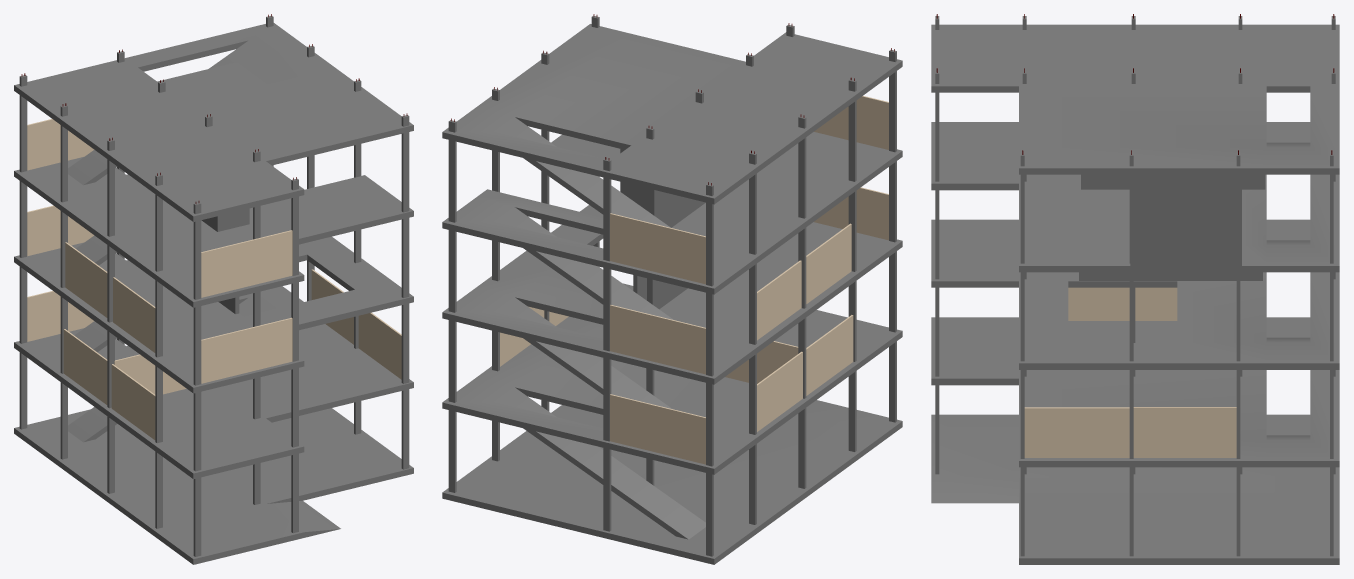
The model's file is ConstructionBuilding.fbx.
3 views of the same model, side by side, from view 1: azimuth 30°, elevation 25°; view 2: azimuth 150°, elevation 25°; view 3: azimuth 270°, elevation 25° (orthographic). The views are drawn at different scales.
Parts seen in each view (by area): view 1: Floor, Drywall.006, Drywall.007, Pillar.010, Pillar.019, Pillar.004, Pillar.001, Pillar.002, Pillar.005, Pillar.006, Drywall.001, Drywall.002 (+12 smaller); view 2: Floor, Drywall.016, Drywall.013, Drywall.014, Pillar.011, Pillar.007, Pillar.004, Pillar.006, Pillar.019, Pillar.005, Pillar.002, Drywall.001 (+12 smaller); view 3: Floor, Wall, Drywall.005, Drywall.012, Wall.001, Drywall.001, Pillar.013, Pillar.012, Pillar.001, Pillar.010, Pillar.011, Drywall.002.
Boxes of the visible parts, <box> form: Floor: <box>14,23,413,564</box>; Drywall.006: <box>201,230,292,297</box>; Drywall.007: <box>201,317,292,383</box>; Pillar.010: <box>401,113,409,469</box>; Pillar.019: <box>193,201,201,556</box>; Pillar.004: <box>19,73,27,429</box>; Pillar.001: <box>291,177,298,533</box>; Pillar.002: <box>155,172,162,528</box>; Pillar.005: <box>107,137,114,493</box>; Pillar.006: <box>60,103,67,459</box>; Drywall.001: <box>111,364,155,439</box>; Drywall.002: <box>63,329,107,404</box>; Floor: <box>442,24,902,564</box>; Drywall.016: <box>610,213,705,284</box>; Drywall.013: <box>610,394,705,464</box>; Drywall.014: <box>610,305,705,374</box>; Pillar.011: <box>448,118,456,492</box>; Pillar.007: <box>603,157,611,531</box>; Pillar.004: <box>706,182,713,556</box>; Pillar.006: <box>749,150,756,524</box>; Pillar.019: <box>889,48,896,422</box>; Pillar.005: <box>798,114,806,488</box>; Pillar.002: <box>848,77,856,451</box>; Drywall.001: <box>806,315,853,395</box>; Floor: <box>931,24,1339,564</box>; Wall: <box>1079,192,1262,280</box>; Drywall.005: <box>1024,407,1129,457</box>; Drywall.012: <box>1133,407,1236,457</box>; Wall.001: <box>1081,174,1265,192</box>; Drywall.001: <box>1068,287,1129,320</box>; Pillar.013: <box>1236,150,1240,556</box>; Pillar.012: <box>1129,150,1133,556</box>; Pillar.001: <box>935,68,939,474</box>; Pillar.010: <box>1020,150,1024,556</box>; Pillar.011: <box>1330,150,1333,556</box>; Drywall.002: <box>1135,287,1177,320</box>.
Size of the model in its own units: 1750 by 2327 by 2100.
